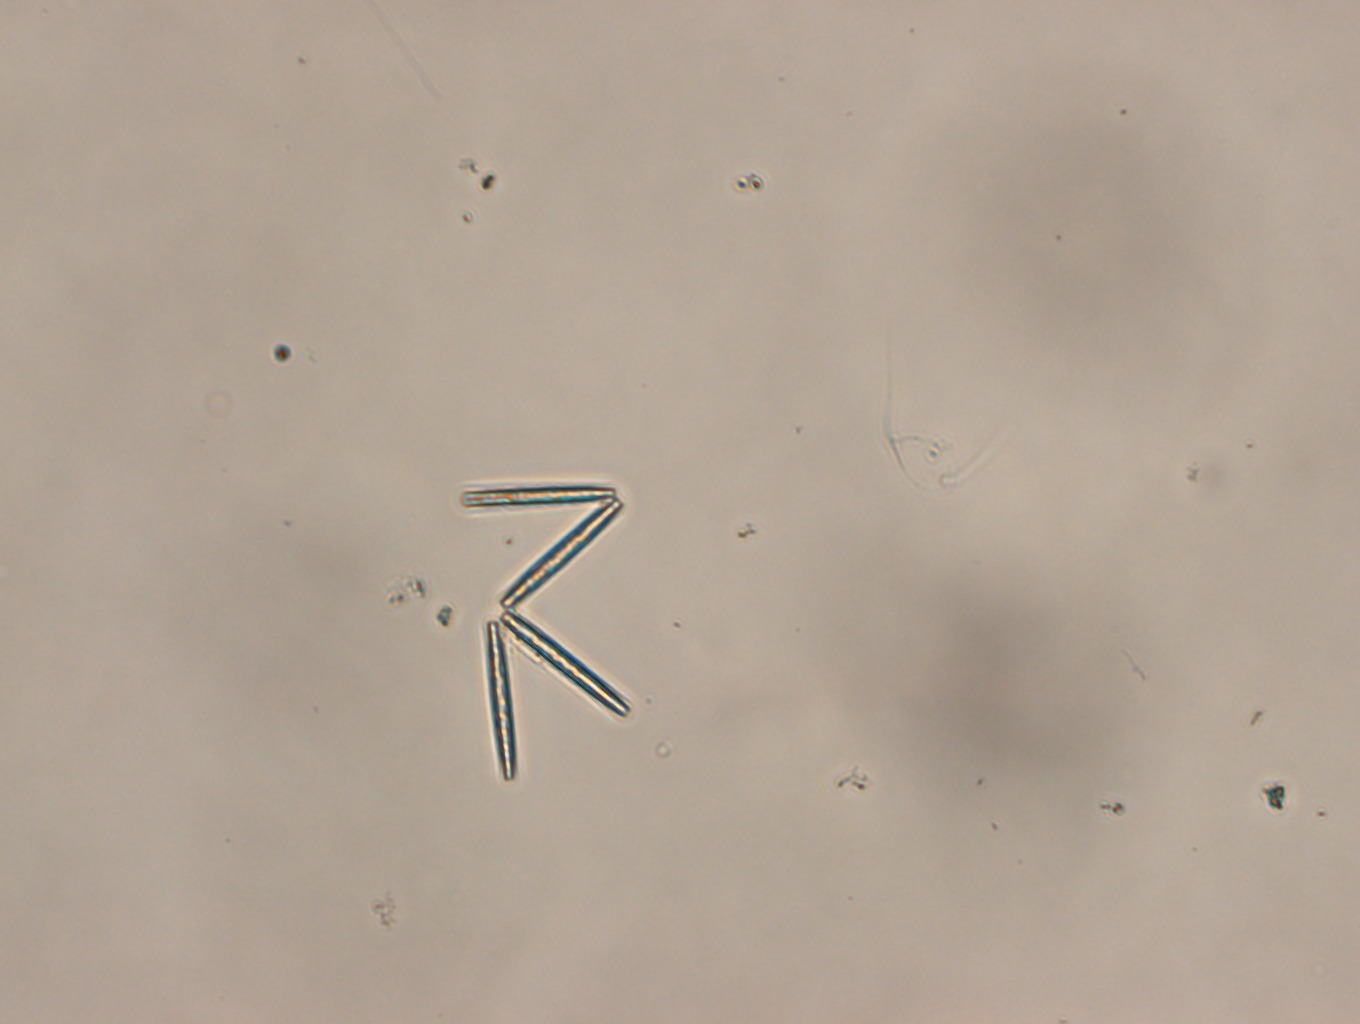thalassionema nitzschioides: (459, 481, 634, 783)
